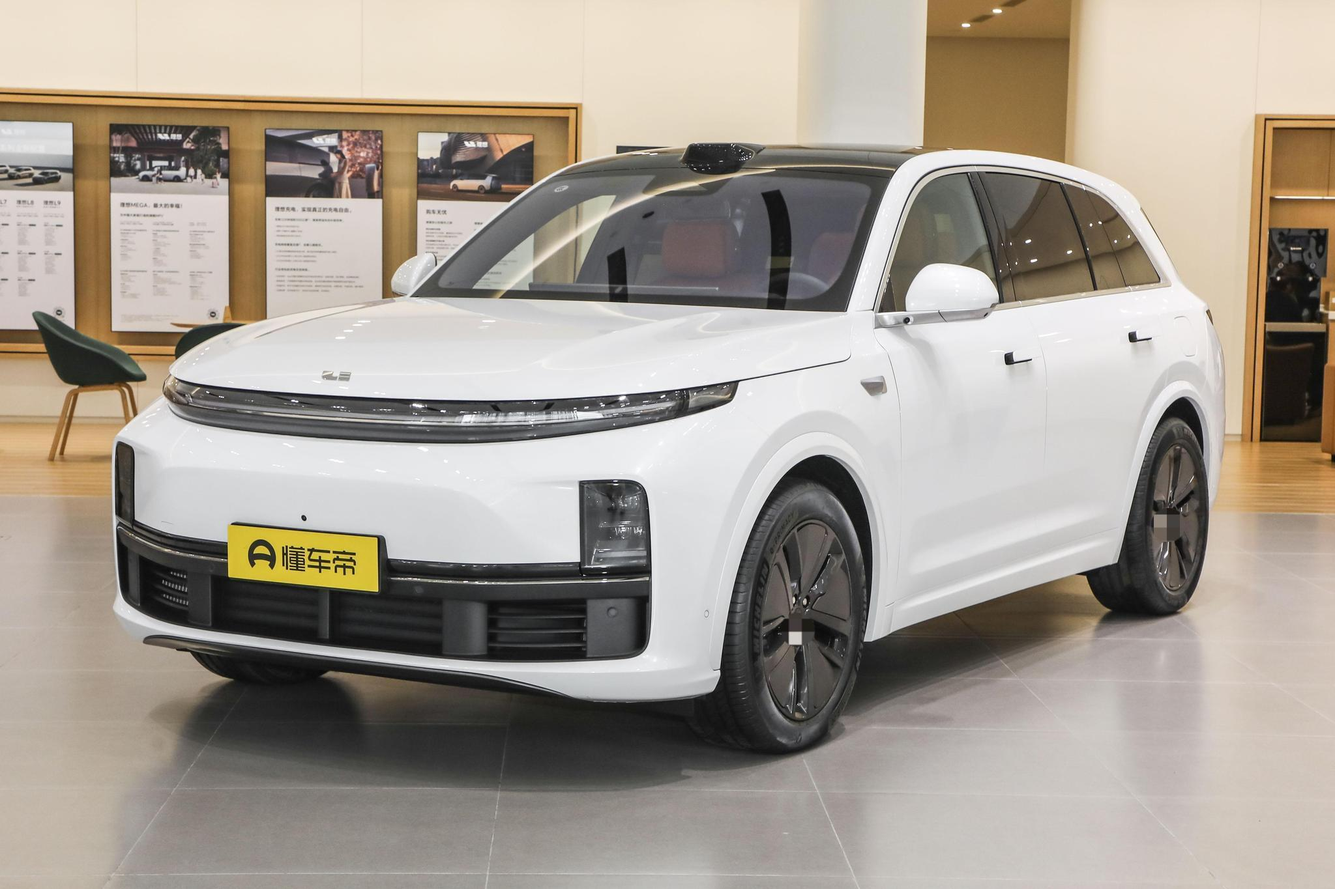Li Auto: (321, 370, 351, 384)
